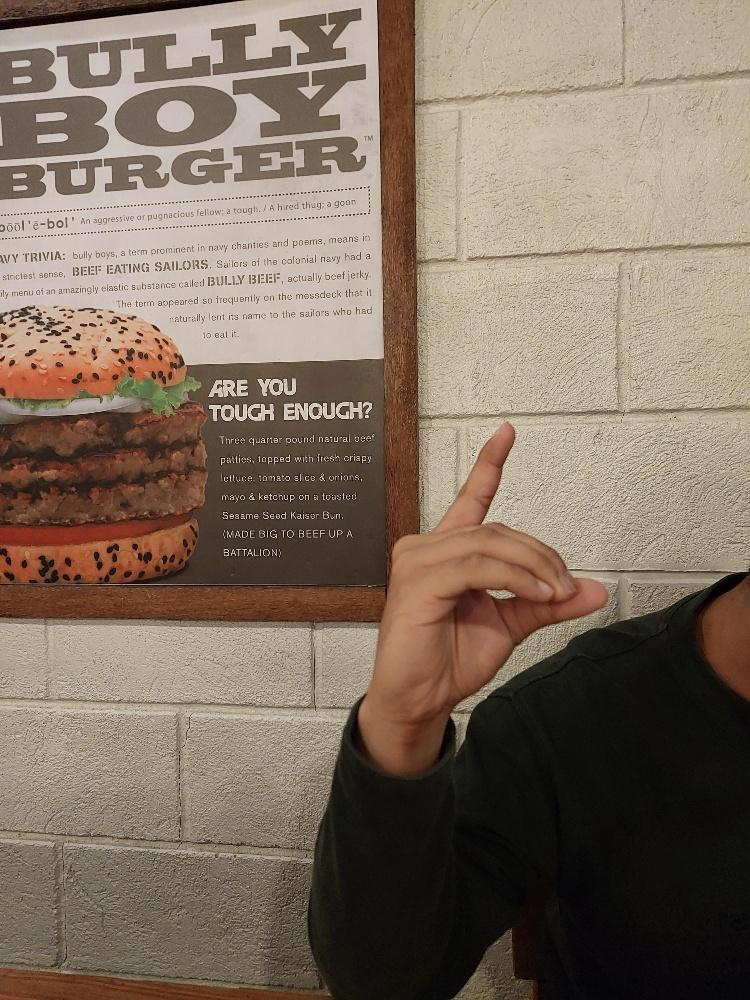d: (367, 418, 611, 729)
